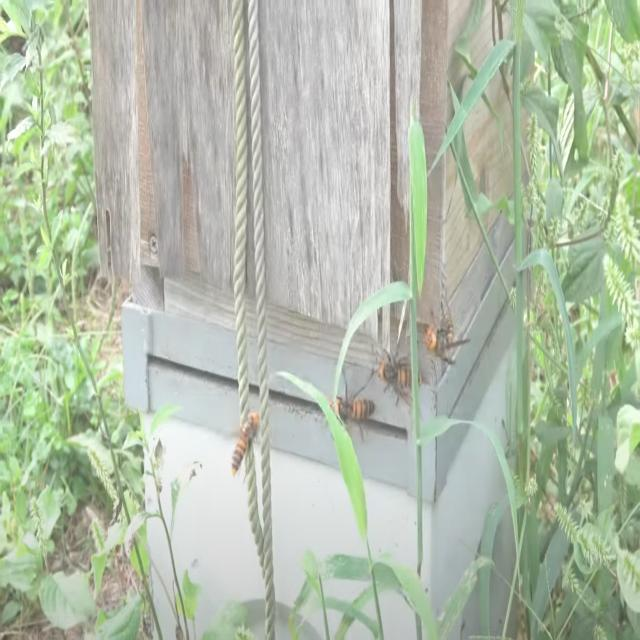Wasp: (414, 307, 464, 365), (220, 406, 260, 474), (378, 350, 423, 407), (326, 387, 377, 431)
